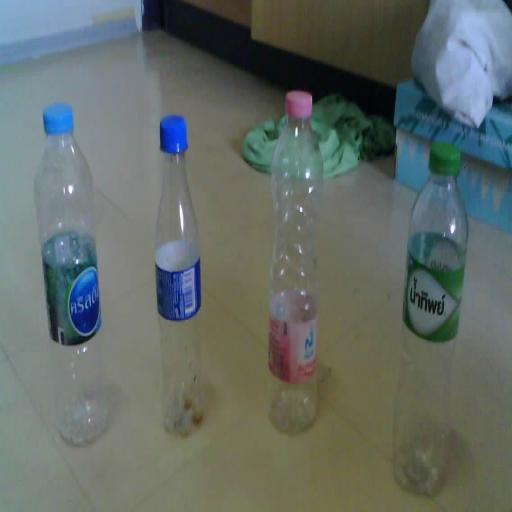bottle: (394, 142, 467, 498), (34, 102, 106, 448), (266, 89, 319, 437), (153, 112, 201, 434)
